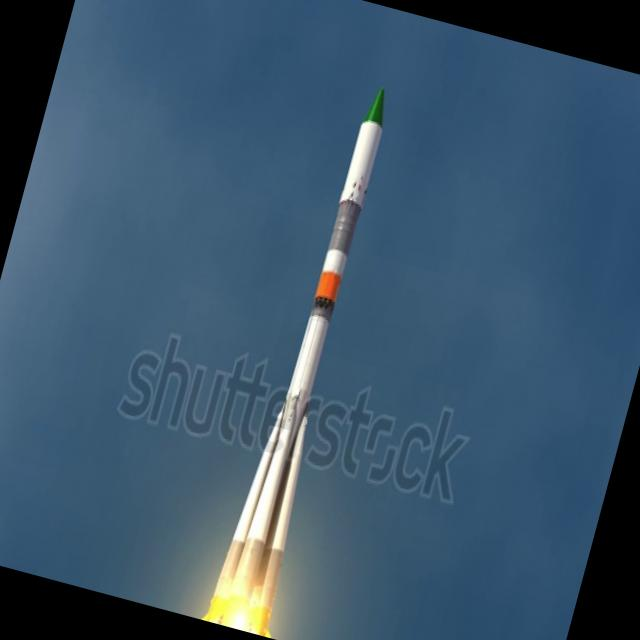rocket: (209, 73, 414, 637)
